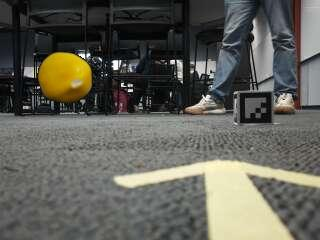lemon: (39, 52, 93, 103)
